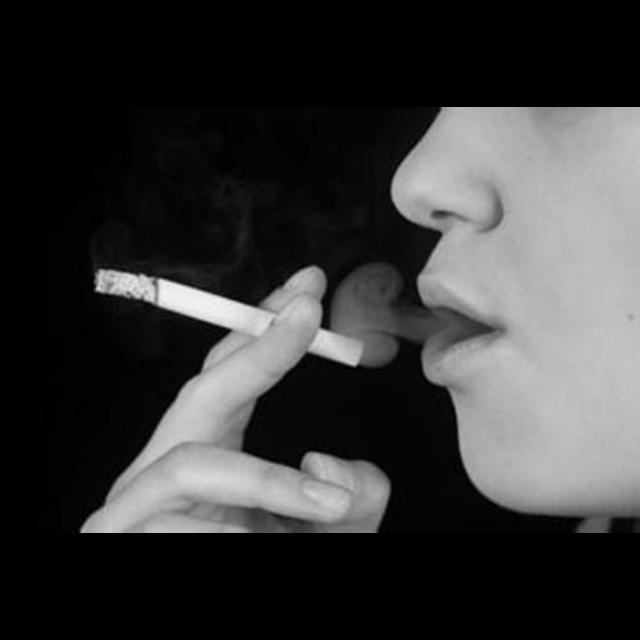rokok: (92, 254, 368, 374)
